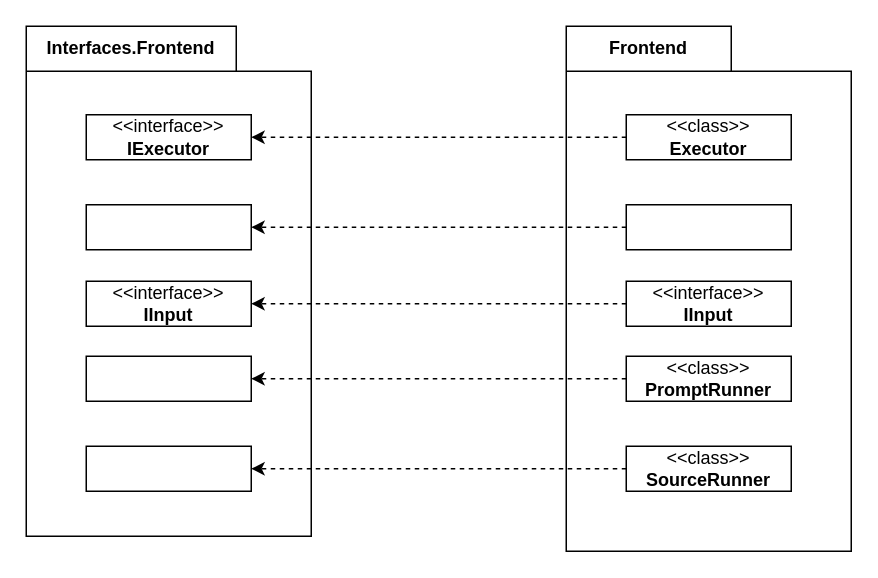
Some shapes in this 878 by 578 pixel diagram are drawn without their labels. Each missing label, with the centre of its shape:
"<<class>> ExitHandler" goes at (708,226).
"<<interface>> IExitHandler" goes at (168,226).
"<<interface>> IPromptRunner" goes at (168,378).
"<<interface>> ISourceRunner" goes at (168,468).
